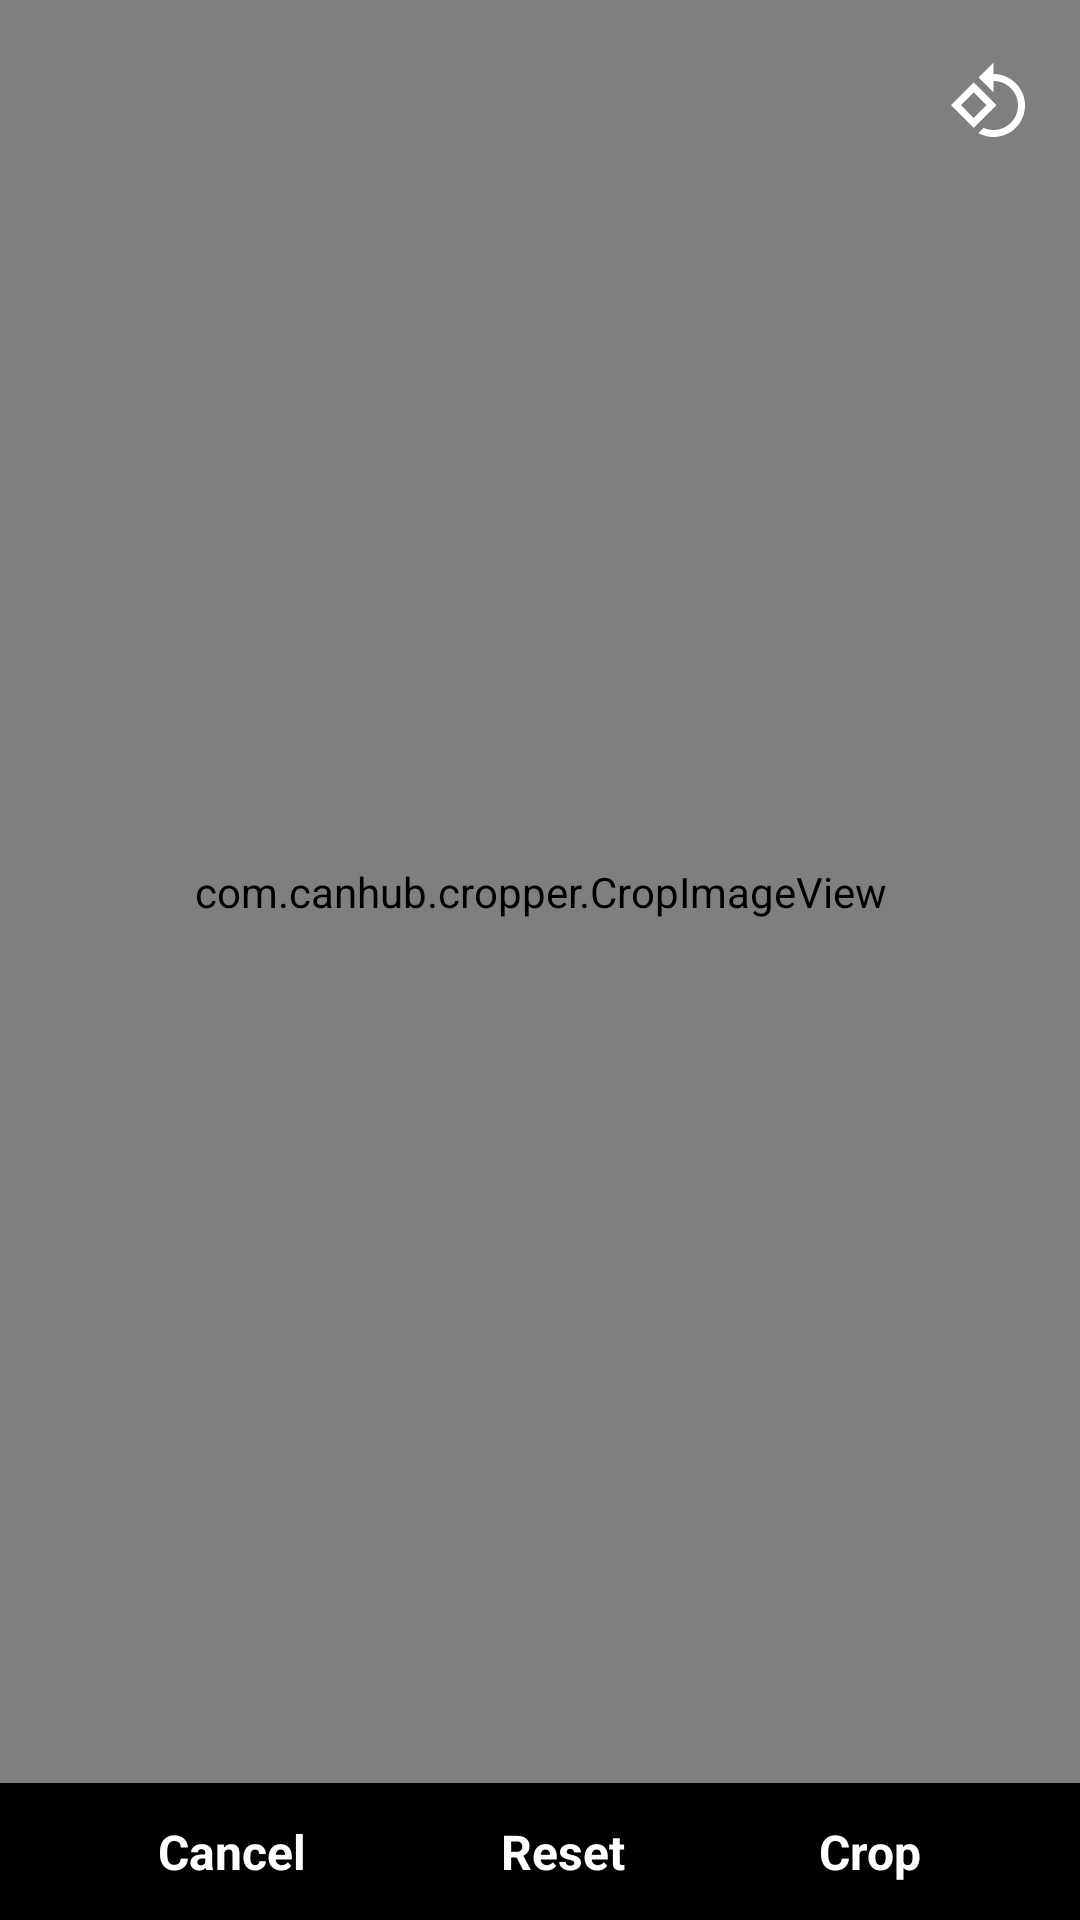

Where icons sit on this 1080 x 1920 app screen, as bbox=(x1, y1, x2, y2):
rotate: bbox=(951, 63, 1025, 137)
